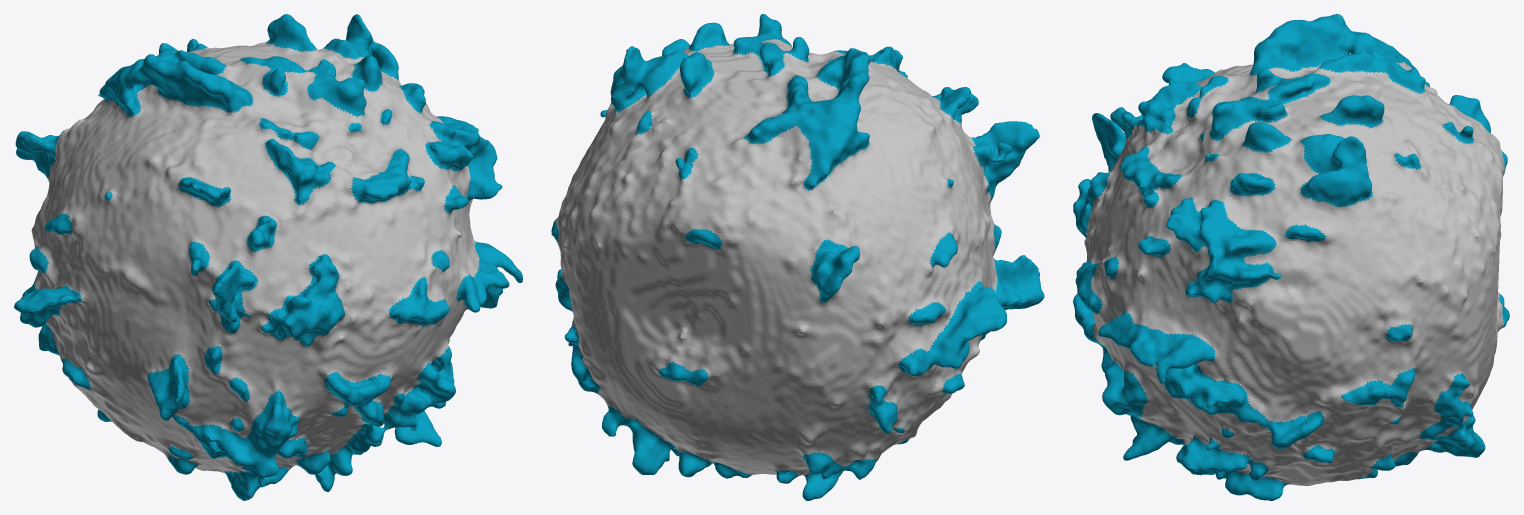
The picture shows the model from 3 angles, left to right: view 1: azimuth 30°, elevation 25°; view 2: azimuth 150°, elevation 25°; view 3: azimuth 270°, elevation 25°; orthographic projection.
Bounding box in the file's own units: 165 × 155 × 147.
